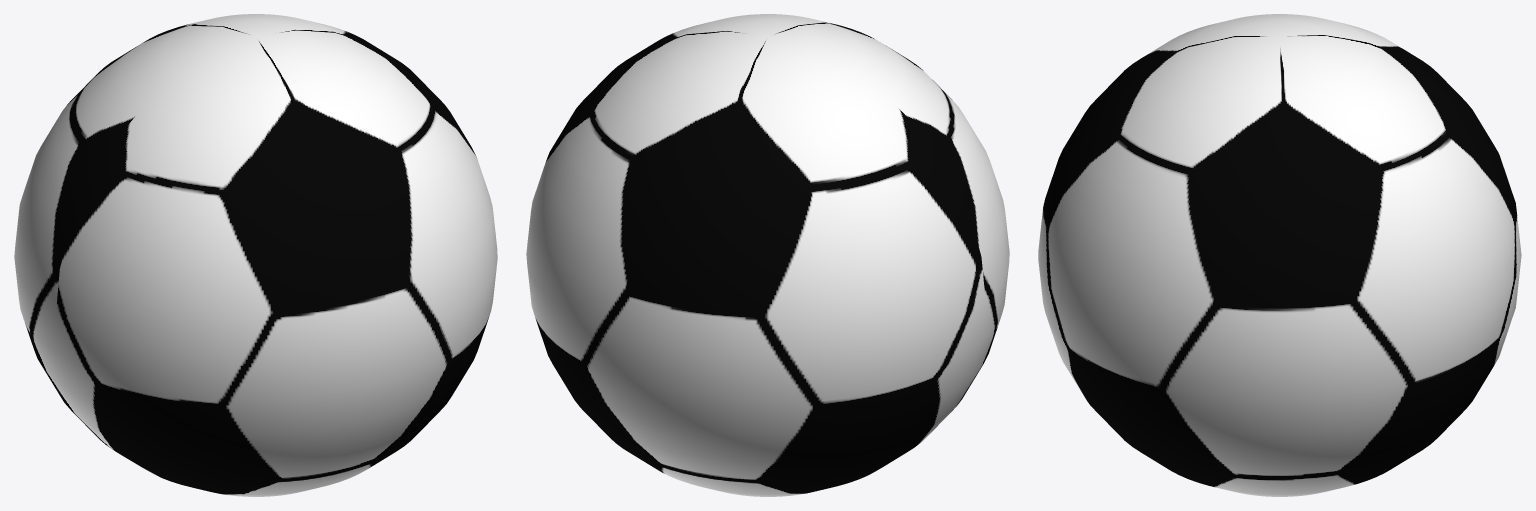
File: Ball.fbx
The picture shows the model from 3 angles, left to right: view 1: azimuth 30°, elevation 25°; view 2: azimuth 150°, elevation 25°; view 3: azimuth 270°, elevation 25°; orthographic projection.
Visible parts, largest first — view 1: Sphere; view 2: Sphere; view 3: Sphere.
Part boxes in pixels (x1,y1,x2,y2): Sphere: (14,14,497,496); Sphere: (526,14,1009,496); Sphere: (1038,14,1521,496).
Bounding box in the file's own units: 71.95 × 71.97 × 71.93.
1 material, 1 textured.
